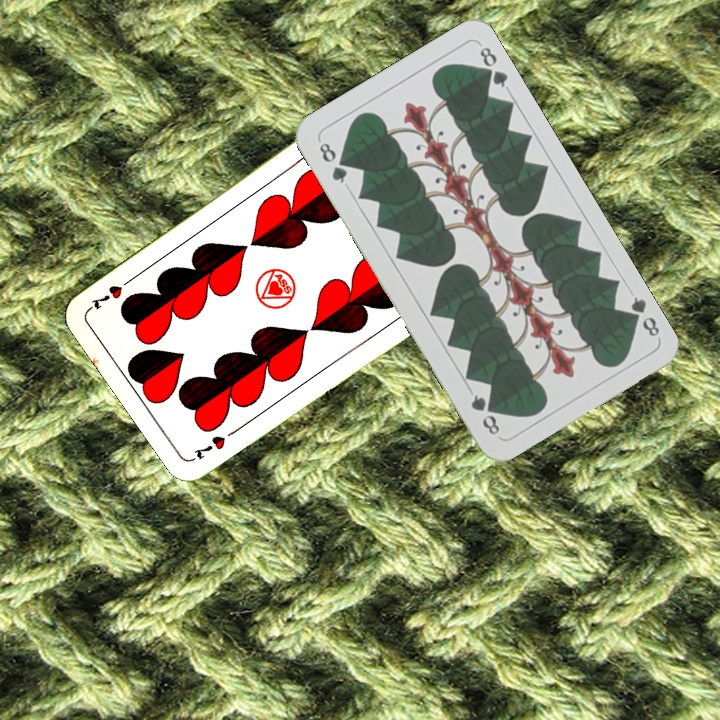G8: (621, 292, 663, 340), (315, 138, 350, 186)
H7: (189, 424, 242, 463)
